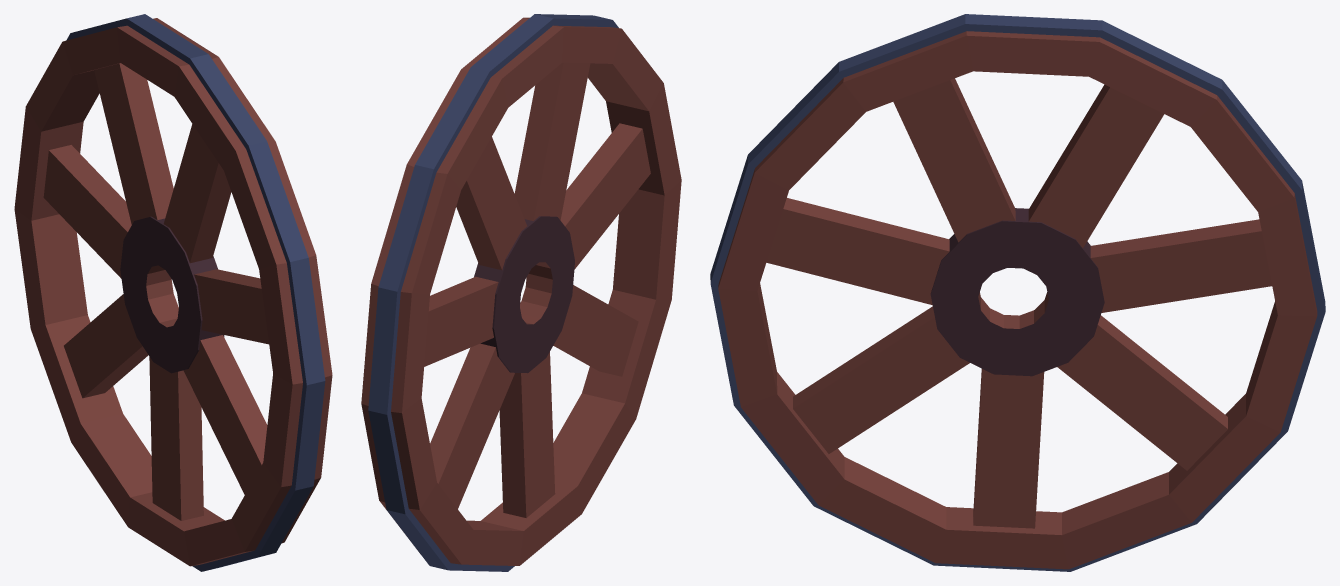
Rendered from Wheel_01.fbx.
The picture shows the model from 3 angles, left to right: view 1: azimuth 30°, elevation 25°; view 2: azimuth 150°, elevation 25°; view 3: azimuth 270°, elevation 25°; orthographic projection. The views are drawn at different scales.
Parts seen in each view (by area): view 1: Wheel_01; view 2: Wheel_01; view 3: Wheel_01.
Boxes of the visible parts, bbox=[...] form: Wheel_01: bbox=[14, 14, 332, 571]; Wheel_01: bbox=[361, 14, 681, 571]; Wheel_01: bbox=[710, 14, 1325, 571].
Bounding box in the file's own units: 13.69 × 146 × 148.
